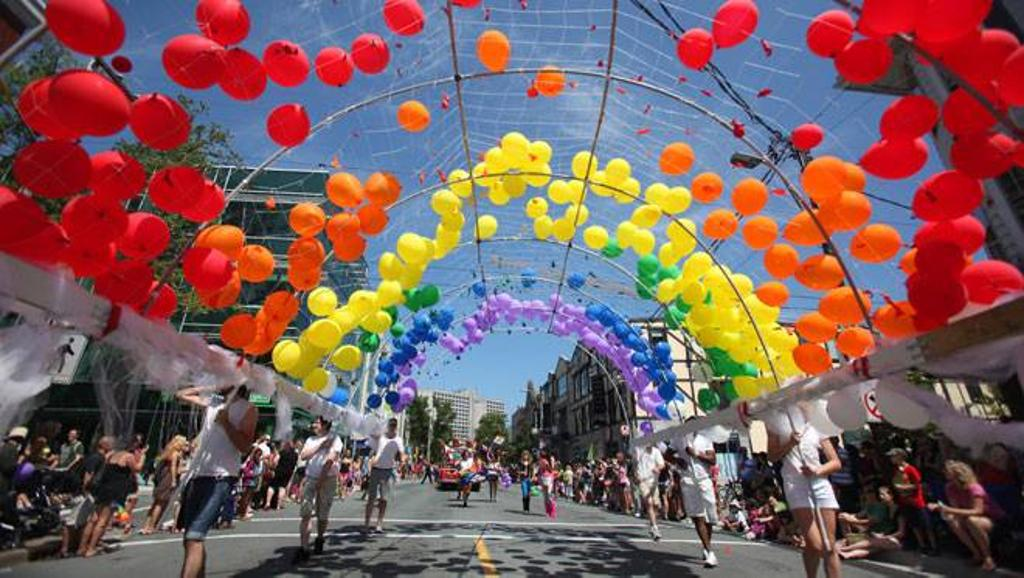face: (992, 449, 1008, 471), (863, 485, 876, 504), (943, 462, 957, 479), (880, 490, 893, 504), (314, 418, 325, 434), (645, 424, 654, 437), (891, 454, 902, 464), (734, 484, 744, 495), (390, 422, 397, 433), (69, 431, 77, 440), (731, 503, 738, 512), (764, 505, 771, 514), (184, 443, 191, 451), (272, 443, 278, 452), (255, 452, 261, 460), (617, 454, 623, 461), (523, 453, 528, 459), (464, 453, 469, 459), (492, 455, 495, 461)
